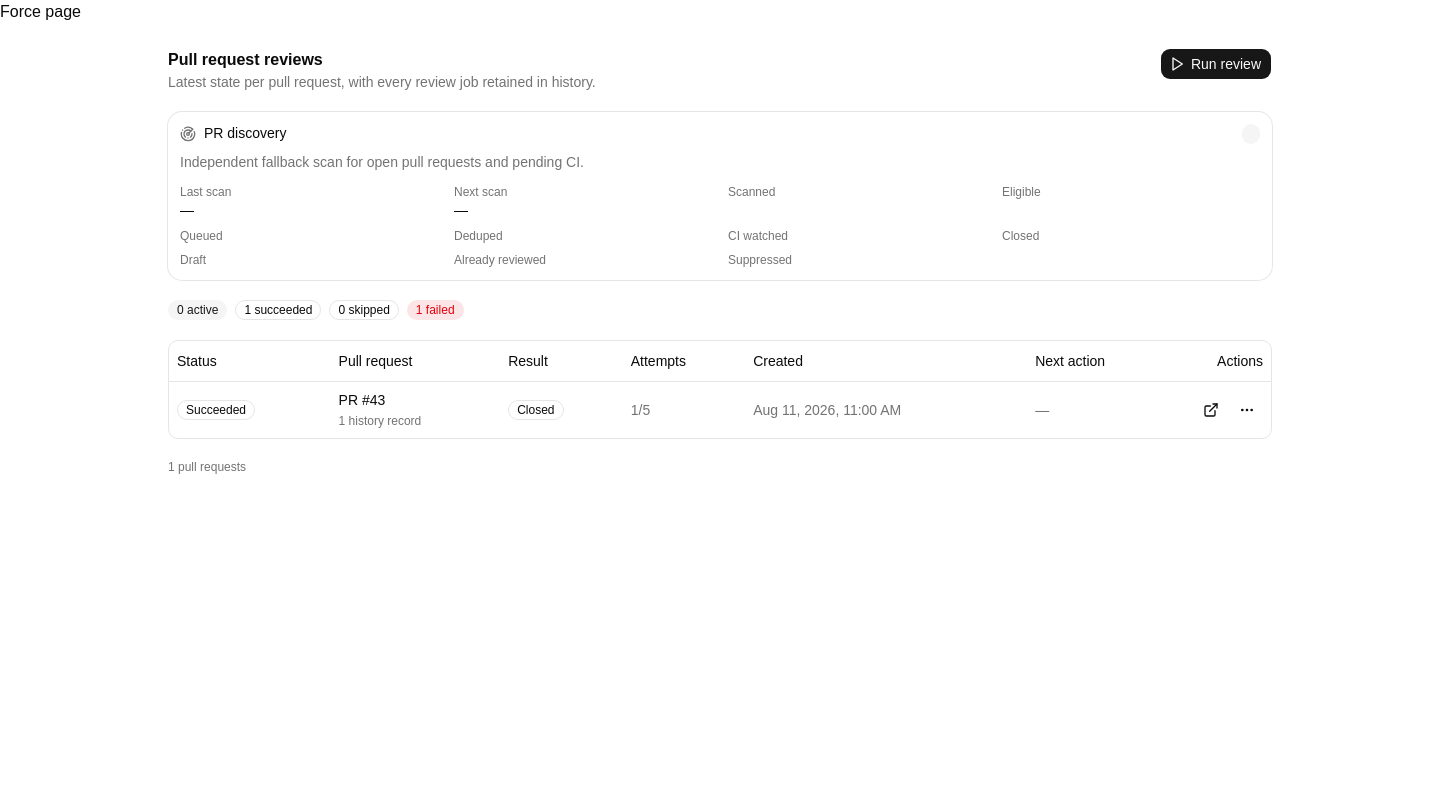
Scenario: pull request review pagination › shows closed after refresh and removes re-review actions while retaining history
The width and height of the screenshot is (1440, 810).
Click the button named "Actions for PR #43": {"x": 1247, "y": 410} x1=1231 y1=394 x2=1263 y2=426
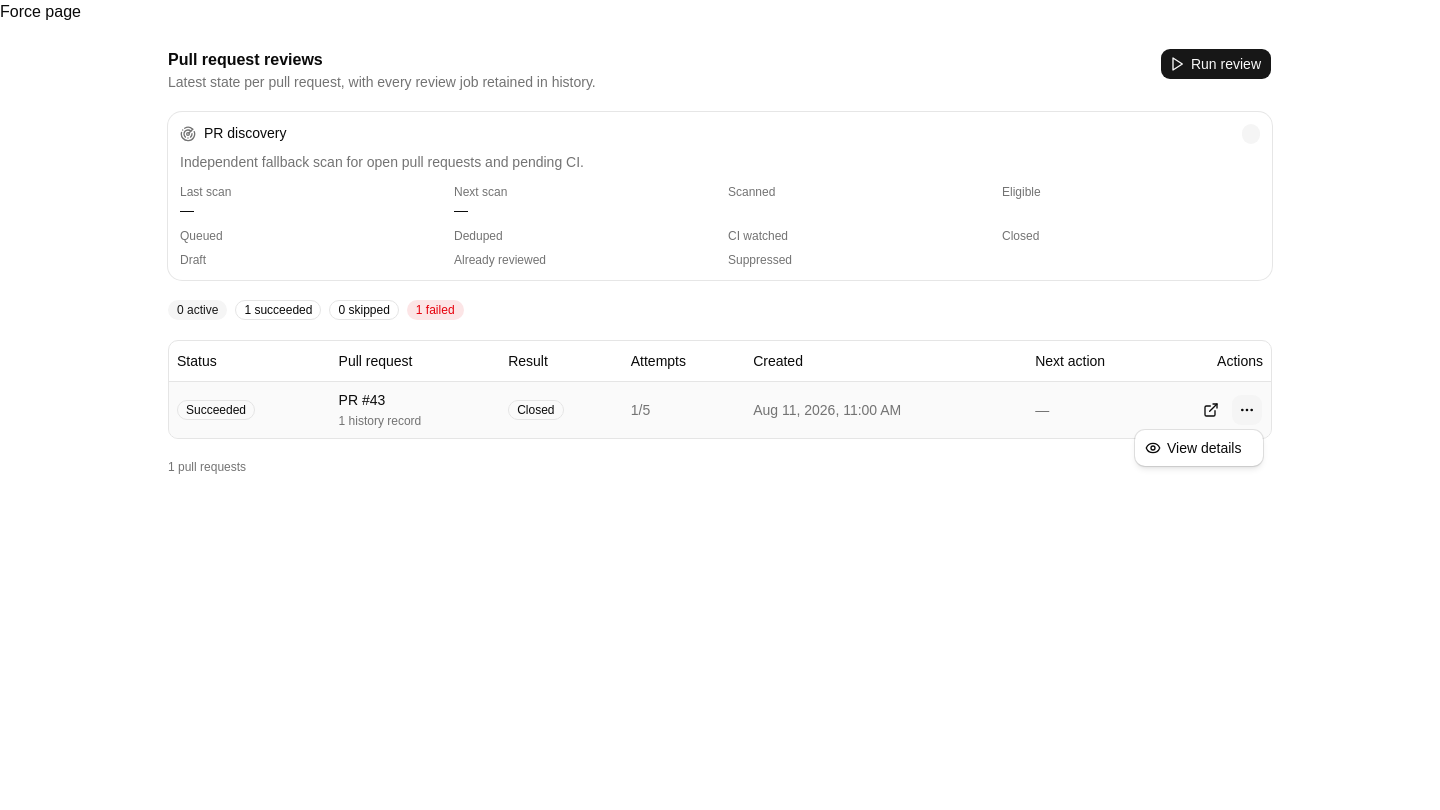
Click the menu item "View details": {"x": 1193, "y": 448} x1=1145 y1=440 x2=1242 y2=456
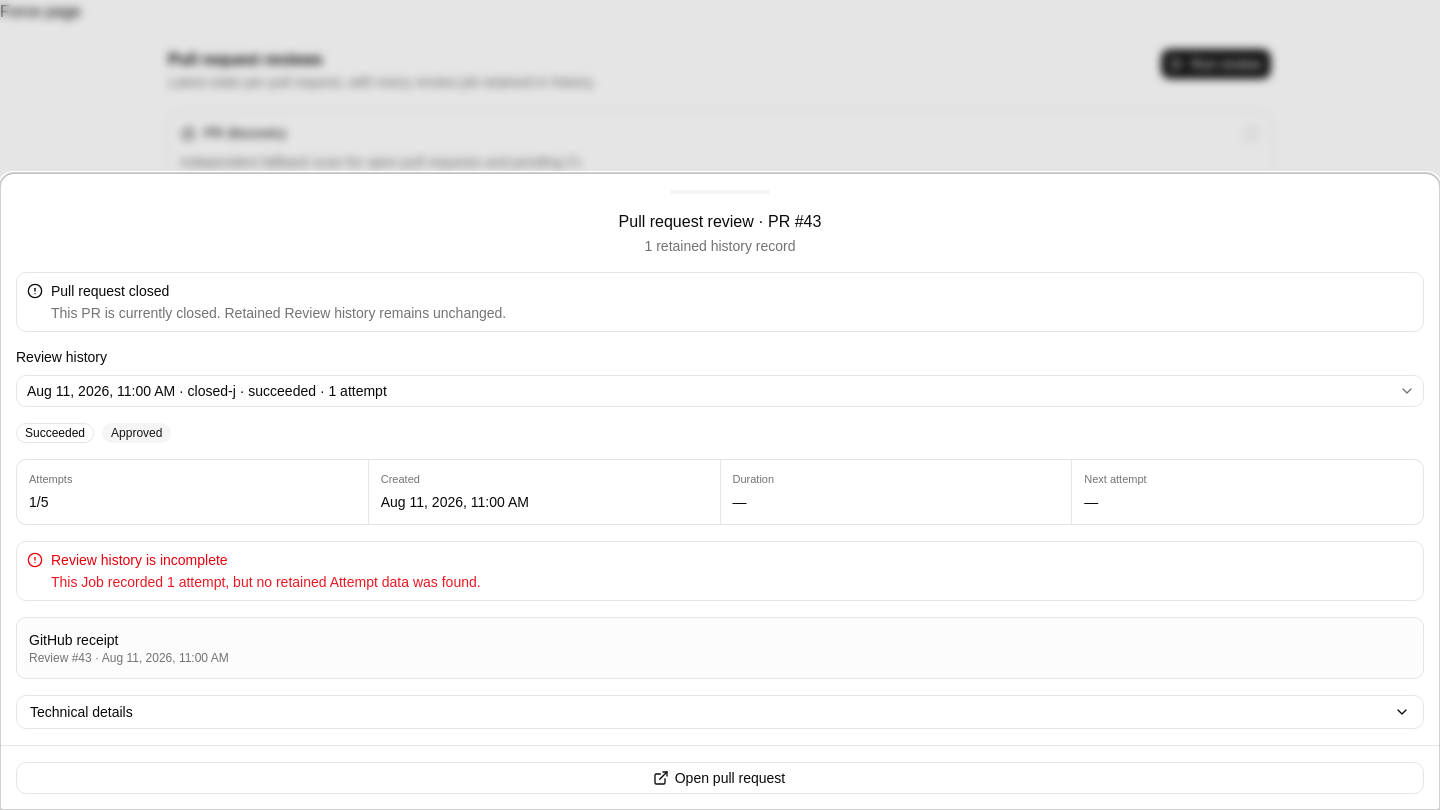
Expected: the text "Pull request closed" is shown, x1=51 y1=283 x2=169 y2=299
Expected: the text "Approved" is shown, x1=102 y1=423 x2=171 y2=443
